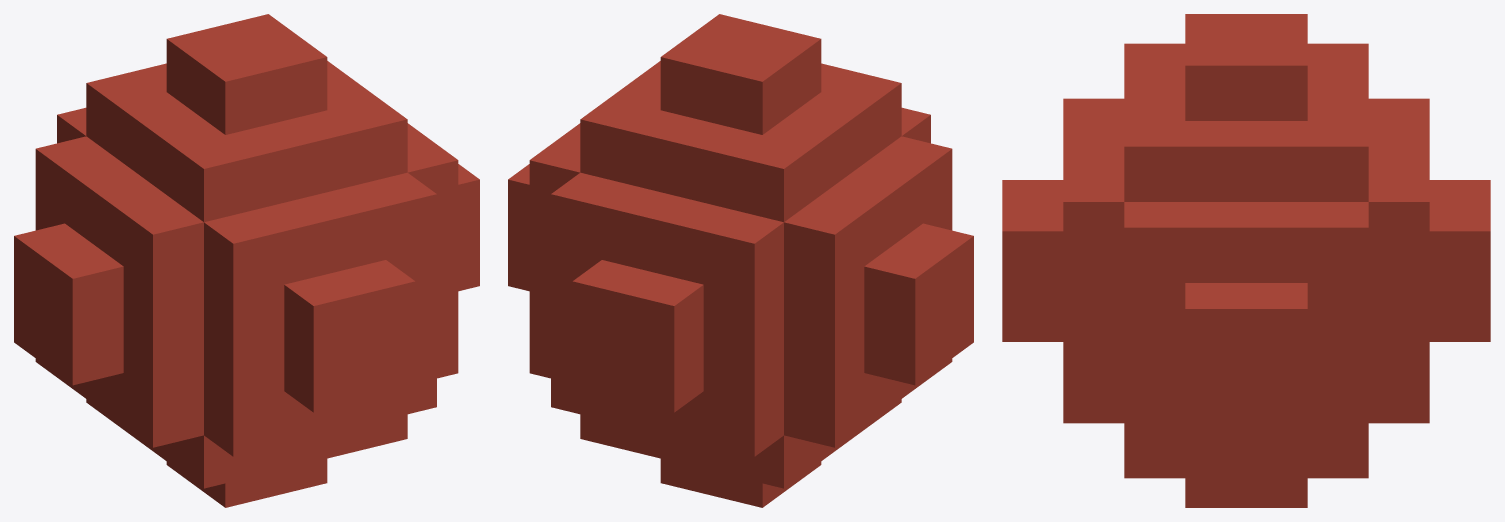
Rendered from Hand_R.obj.
The picture shows the model from 3 angles, left to right: view 1: azimuth 30°, elevation 25°; view 2: azimuth 150°, elevation 25°; view 3: azimuth 270°, elevation 25°; orthographic projection. The views are drawn at different scales.
Visible parts, largest first — view 1: Untitled; view 2: Untitled; view 3: Untitled.
Part boxes in pixels (x1=…): Untitled: x1=14, y1=14, x2=479, y2=507; Untitled: x1=508, y1=14, x2=973, y2=507; Untitled: x1=1002, y1=14, x2=1490, y2=507.
Size of the model in its own units: 0.8 by 0.8 by 0.8.
Materials: 1 (1 with a texture image).
